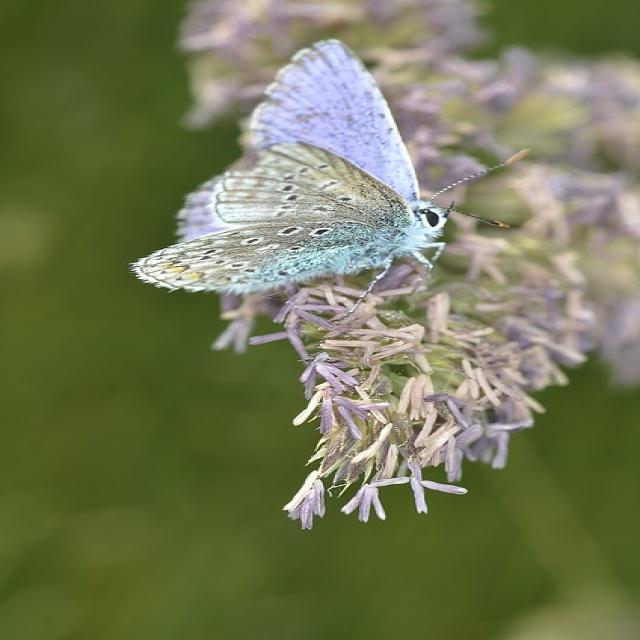butterfly: (134, 40, 445, 294)
